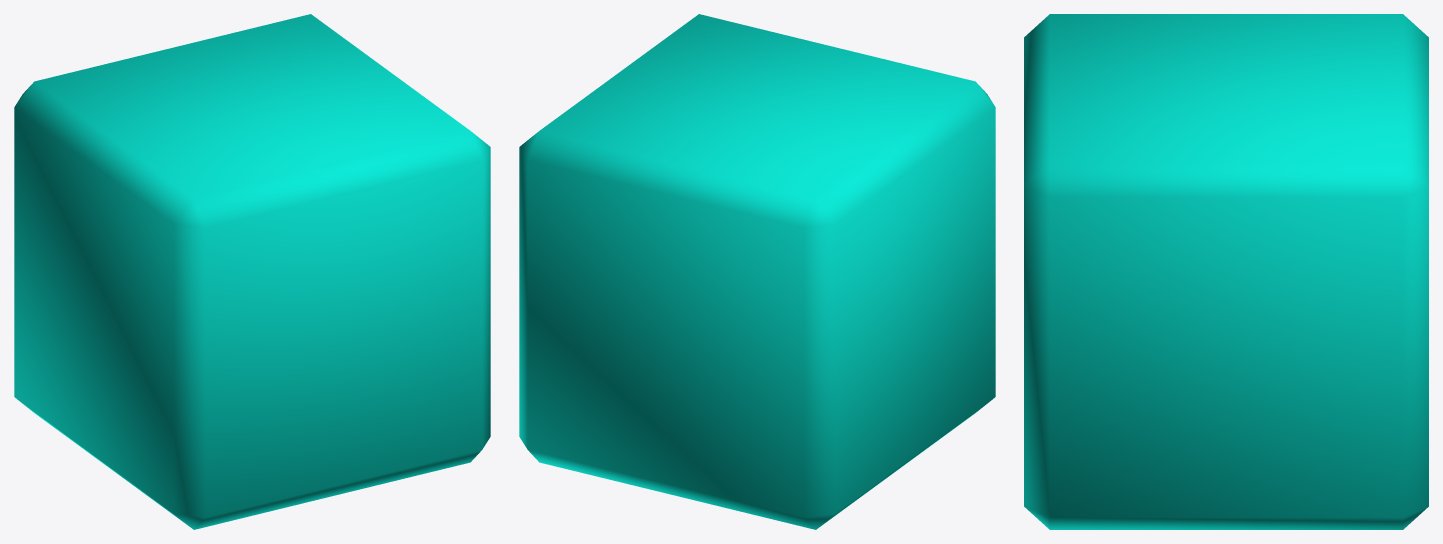
File: Ice.fbx
3 renders of one model, left to right at view 1: azimuth 30°, elevation 25°; view 2: azimuth 150°, elevation 25°; view 3: azimuth 270°, elevation 25°, orthographic. The views are drawn at different scales.
Visible parts, largest first — view 1: Ice; view 2: Ice; view 3: Ice.
Boxes of the visible parts, x1,y1,x2,y2 form: Ice: (14, 14, 490, 529); Ice: (519, 14, 995, 529); Ice: (1024, 14, 1428, 529).
Size of the model in its own units: 38.76 by 38.76 by 38.76.
